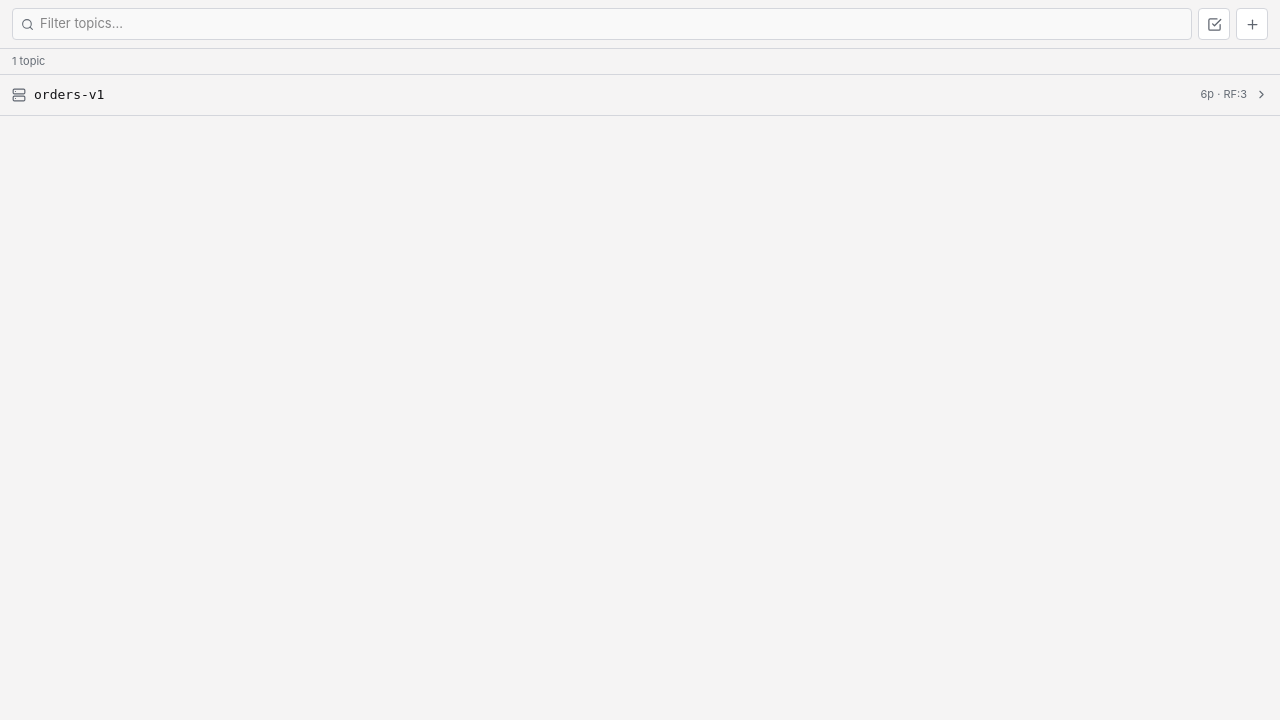
Test: [@topic-list] create topic button › Create Topic button opens the CreateTopic modal
Click the button named "Create new topic" at {"x": 1252, "y": 24}, box [1236, 8, 1268, 40]
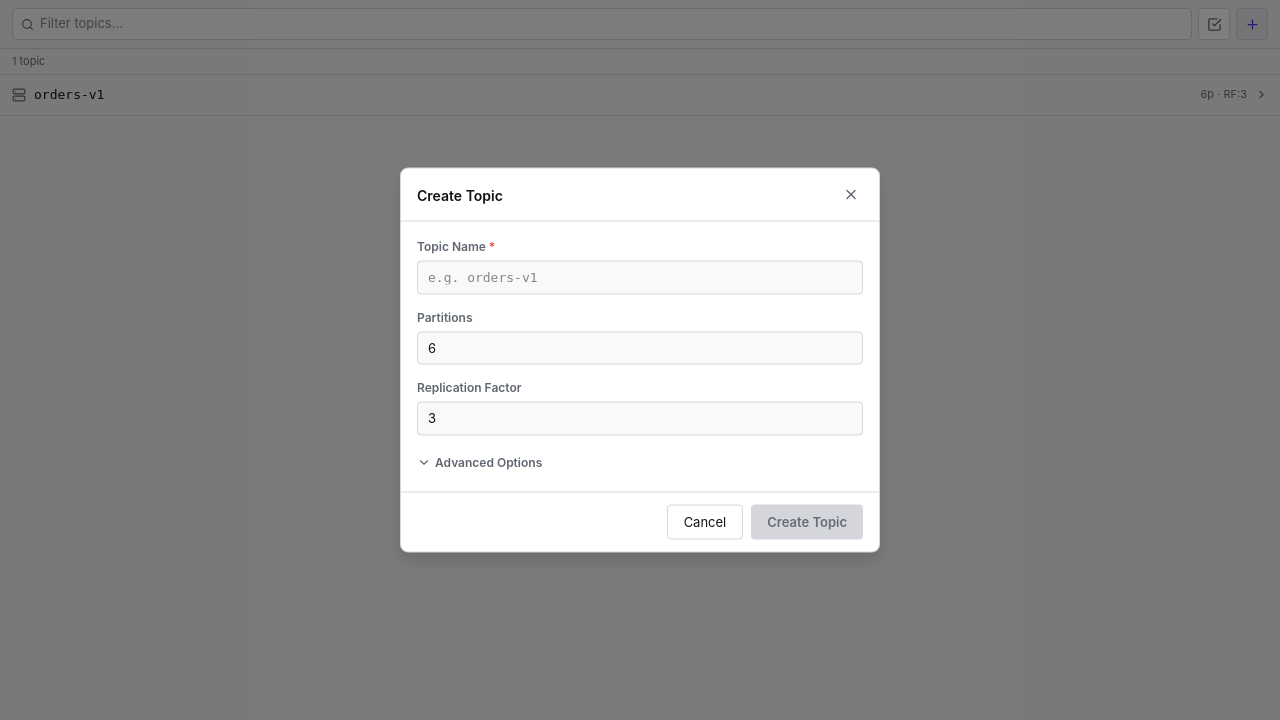
Expected: the dialog is shown, [400, 168, 880, 552]
Expected: the heading "Create Topic" is shown, [417, 184, 503, 205]
